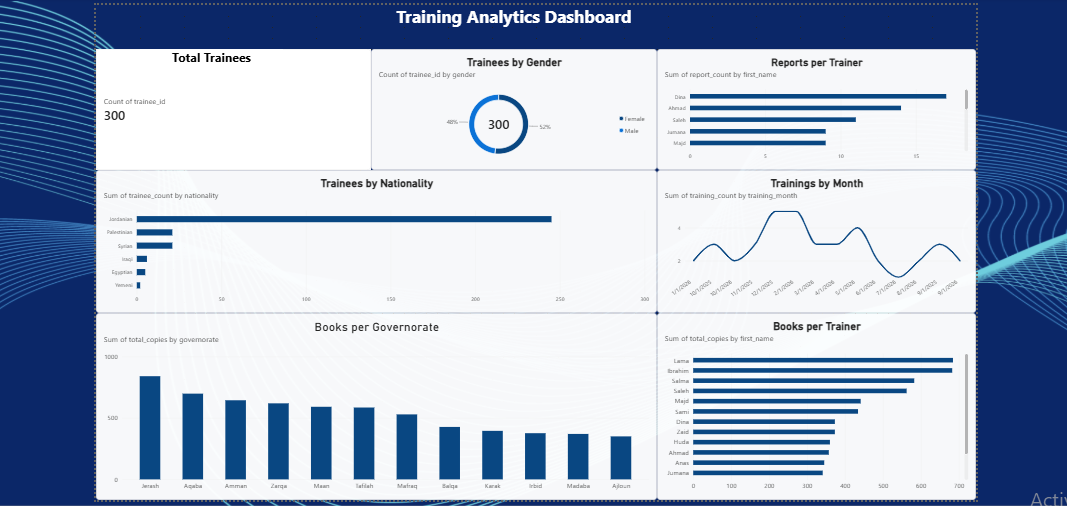

The page's visual inventory and layout, read from the dashboard file:
{"tool":"powerbi","page":{"name":"Page 1","canvas":[1920,1080],"ordinal":0},"visuals":[{"type":"clusteredBarChart","title":"Reports per Trainer","fields":{"Category":["trainers.first_name"],"Y":["Sum(reports_per_trainer.report_count)"]},"box":[1224,96,696,264],"z":0},{"type":"clusteredColumnChart","title":"Books per Governorate","fields":{"Category":["books_per_governorate.governorate"],"Y":["Sum(books_per_governorate.total_copies)"]},"box":[0,672,1224,408],"z":3},{"type":"donutChart","title":"Trainees by Gender","fields":{"Category":["trainees.gender"],"Y":["CountNonNull(trainees.trainee_id)"]},"box":[600,96,624,264],"z":4},{"type":"lineChart","title":"Trainings by Month","fields":{"Category":["trainings_per_month.training_month.Variation.Date Hierarchy.Year"],"Y":["Sum(trainings_per_month.training_count)"]},"box":[1224,360,696,312],"z":6},{"type":"clusteredBarChart","title":"Trainees by Nationality","fields":{"Category":["trainees_by_gender_nationality.nationality"],"Y":["Sum(trainees_by_gender_nationality.trainee_count)"]},"box":[0,360,1224,312],"z":11},{"type":"cardVisual","title":" Total Trainees","fields":{"Data":["Count(trainees.trainee_id)"]},"box":[0,96,600,264],"z":14},{"type":"textbox","box":[600,0,624,96],"z":16},{"type":"clusteredBarChart","title":"Books per Trainer","fields":{"Category":["books_per_trainer.first_name"],"Y":["Sum(books_per_trainer.total_copies)"]},"box":[1224,672,696,408],"z":17},{"type":"textbox","box":[96,96,312,72],"z":18}]}

Visuals, with their boxes on the page's 1920x1080 design canvas (x1, y1, x2, y2). These are canvas units, not pixel positions in the 1067x506 screenshot, which may show the page scaled, cropped or inside an application window:
"Reports per Trainer" clusteredBarChart: x1=1224 y1=96 x2=1920 y2=360
"Books per Governorate" clusteredColumnChart: x1=0 y1=672 x2=1224 y2=1080
"Trainees by Gender" donutChart: x1=600 y1=96 x2=1224 y2=360
"Trainings by Month" lineChart: x1=1224 y1=360 x2=1920 y2=672
"Trainees by Nationality" clusteredBarChart: x1=0 y1=360 x2=1224 y2=672
" Total Trainees" cardVisual: x1=0 y1=96 x2=600 y2=360
textbox: x1=600 y1=0 x2=1224 y2=96
"Books per Trainer" clusteredBarChart: x1=1224 y1=672 x2=1920 y2=1080
textbox: x1=96 y1=96 x2=408 y2=168
